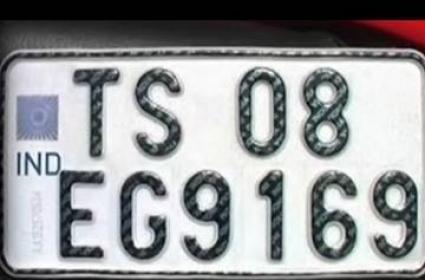doublelinenumberplate: (3, 35, 424, 279)
